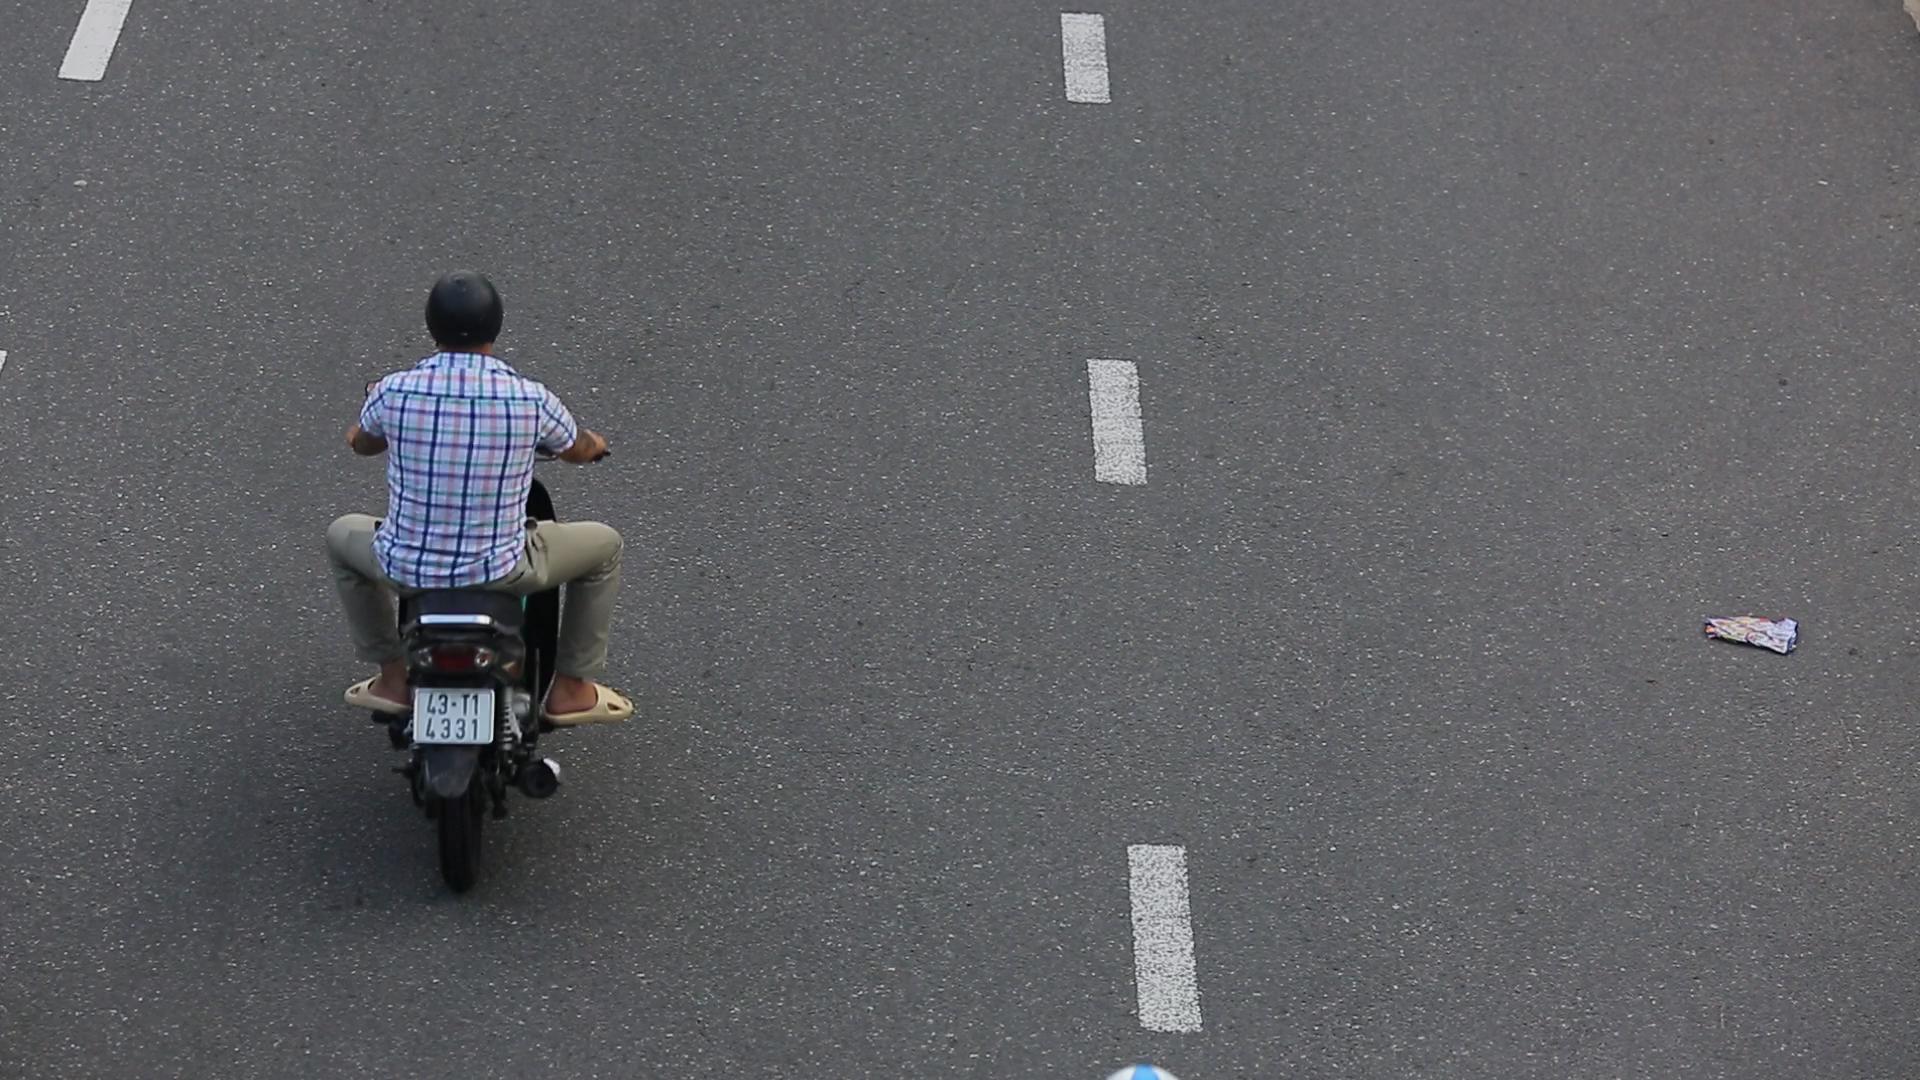motobike: (323, 248, 649, 887)
